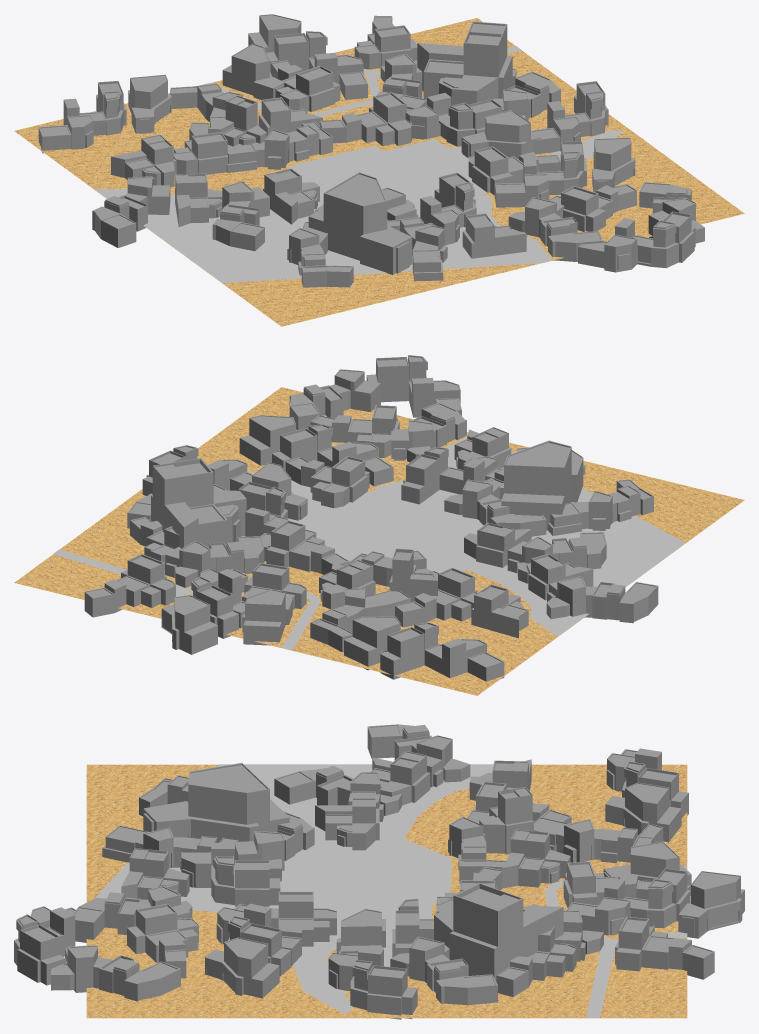
Rendered from Level1_Environemt.fbx.
3 views of the same model, one above another, from view 1: azimuth 30°, elevation 25°; view 2: azimuth 150°, elevation 25°; view 3: azimuth 270°, elevation 25° (orthographic). The views are drawn at different scales.
Visible parts, largest first — view 1: CityBlockout, CityBase, CityBase1; view 2: CityBlockout, CityBase, CityBase1; view 3: CityBlockout, CityBase, CityBase1.
Part boxes in pixels (bbox=[...]): CityBlockout: bbox=[38, 14, 704, 287]; CityBase: bbox=[14, 18, 744, 326]; CityBase1: bbox=[94, 46, 623, 283]; CityBlockout: bbox=[84, 355, 658, 681]; CityBase: bbox=[14, 387, 744, 695]; CityBase1: bbox=[53, 437, 685, 650]; CityBlockout: bbox=[14, 724, 744, 1019]; CityBase: bbox=[86, 764, 687, 1018]; CityBase1: bbox=[95, 764, 687, 1017].
Size of the model in its own units: 158 by 21.77 by 176.
